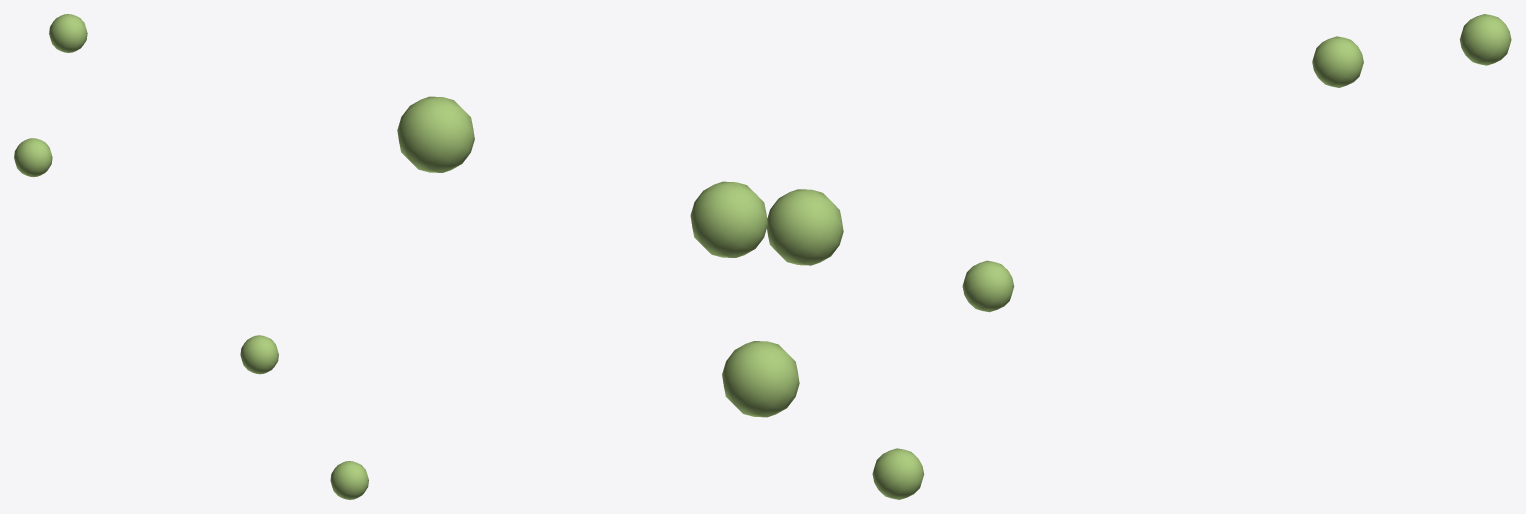
The model's file is obturator-nodes-r.glb.
3 renders of one model, left to right at view 1: azimuth 30°, elevation 25°; view 2: azimuth 150°, elevation 25°; view 3: azimuth 270°, elevation 25°, orthographic. The views are drawn at different scales.
Parts seen in each view (by area): view 1: Obturator nodes.r; view 2: Obturator nodes.r; view 3: Obturator nodes.r.
Part boxes in pixels (bbox=[...]): Obturator nodes.r: bbox=[14, 14, 368, 499]; Obturator nodes.r: bbox=[397, 96, 843, 417]; Obturator nodes.r: bbox=[872, 14, 1511, 499].
Size of the model in its own units: 0.0141 by 0.0245 by 0.0321.
